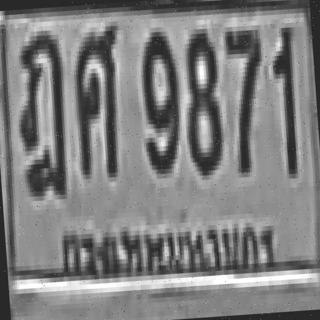A14: (12, 23, 69, 195)
A38: (69, 19, 122, 172)
N01: (269, 23, 300, 170)
N07: (222, 23, 267, 171)
N08: (179, 23, 221, 172)
N09: (136, 26, 180, 170)
P04: (56, 194, 283, 304)
